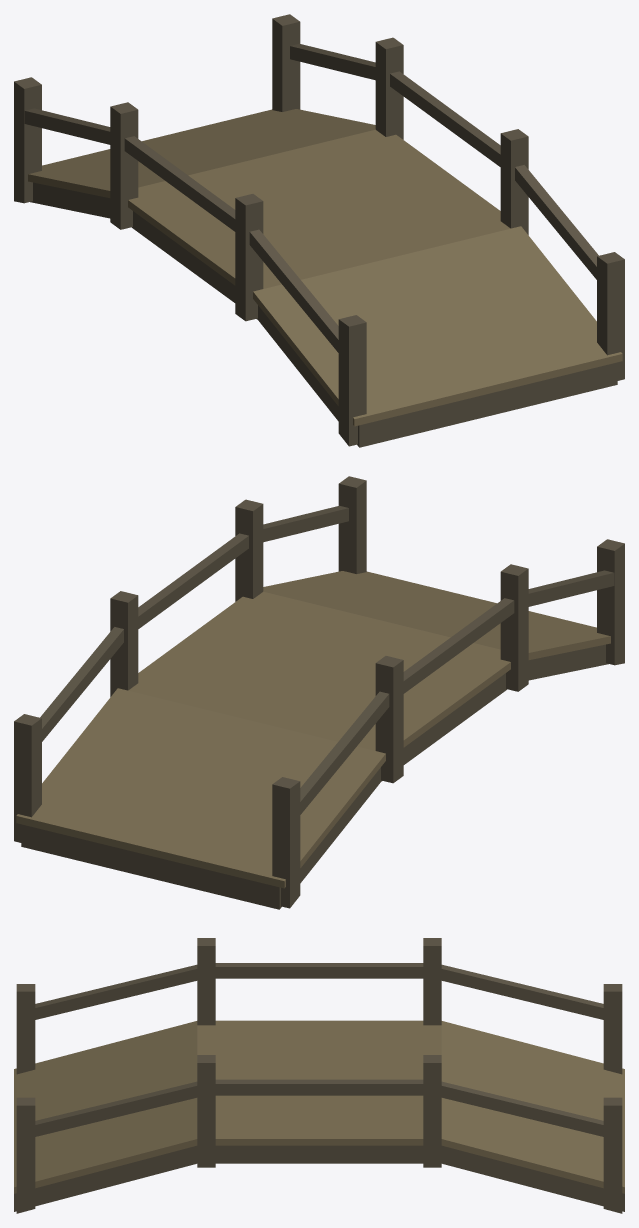
The model's file is mini_Bridge.fbx.
3 renders of one model, top to bottom at view 1: azimuth 30°, elevation 25°; view 2: azimuth 150°, elevation 25°; view 3: azimuth 270°, elevation 25°, orthographic. The views are drawn at different scales.
Parts seen in each view (by area): view 1: mini_Bridge; view 2: mini_Bridge; view 3: mini_Bridge.
Boxes of the visible parts, left/top/right/bottom form: mini_Bridge: left=14, top=14, right=624, bottom=447; mini_Bridge: left=14, top=476, right=624, bottom=909; mini_Bridge: left=14, top=938, right=624, bottom=1213.
Bounding box in the file's own units: 214 × 124 × 444.
